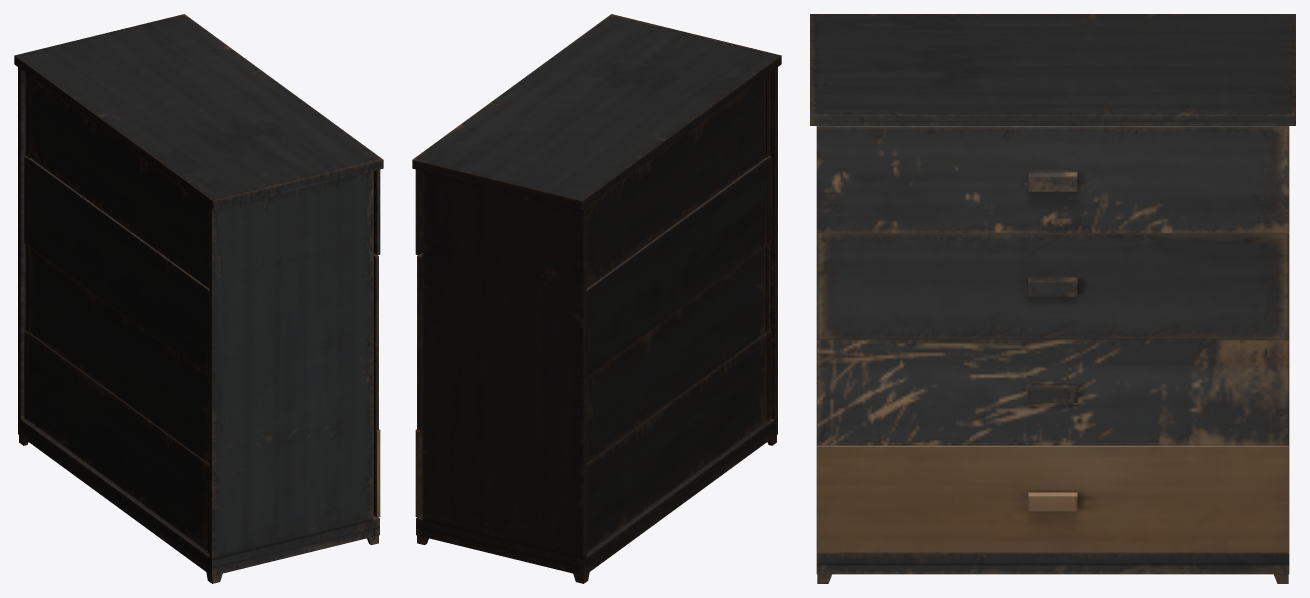
Rendered from objh.glb.
3 renders of one model, left to right at view 1: azimuth 30°, elevation 25°; view 2: azimuth 150°, elevation 25°; view 3: azimuth 270°, elevation 25°, orthographic. The views are drawn at different scales.
Visible parts, largest first — view 1: dresset; view 2: dresset; view 3: dresset.
Boxes of the visible parts, bbox=[...] form: dresset: bbox=[14, 14, 383, 583]; dresset: bbox=[412, 14, 781, 583]; dresset: bbox=[810, 14, 1295, 583].
Bounding box in the file's own units: 0.632 × 1.32 × 1.23.
1 material, 1 textured.
